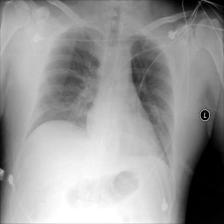normal: (24, 23, 178, 167)
